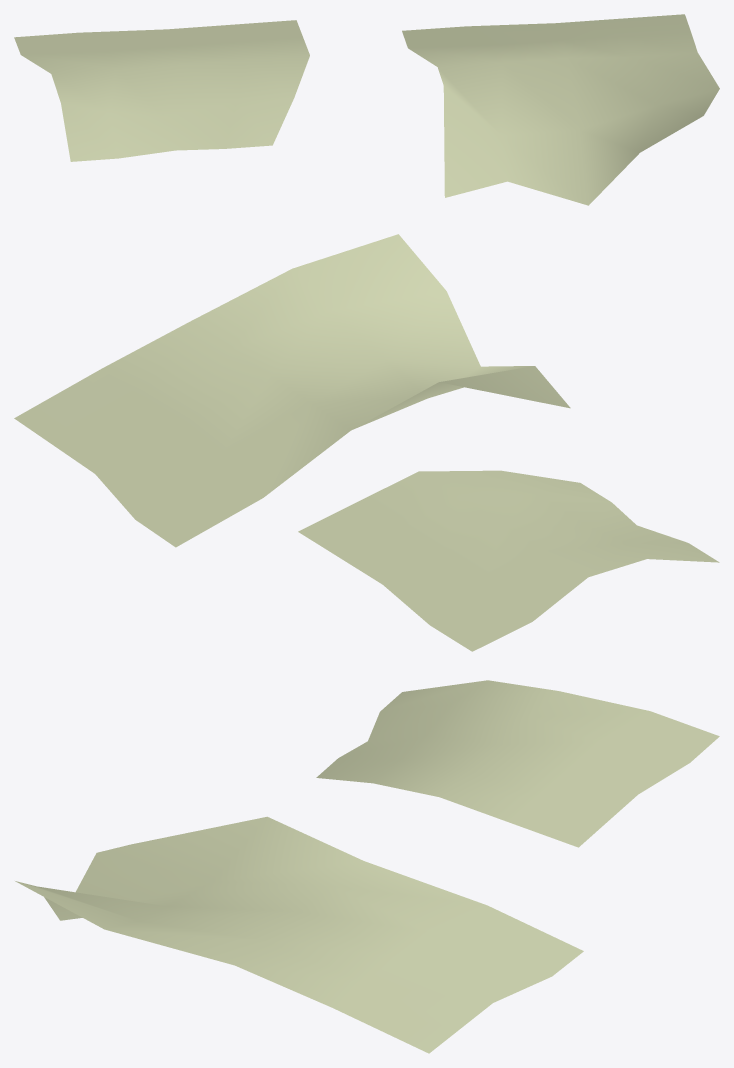
Rendered from NotizZettel.fbx.
The picture shows the model from 3 angles, top to bottom: view 1: azimuth 30°, elevation 25°; view 2: azimuth 150°, elevation 25°; view 3: azimuth 270°, elevation 25°; orthographic projection. The views are drawn at different scales.
Parts seen in each view (by area): view 1: Notiz1, Notiz2; view 2: Notiz1, Notiz2; view 3: Notiz1, Notiz2.
Boxes of the visible parts, x1,y1,x2,y2 form: Notiz1: (402, 14, 719, 205); Notiz2: (14, 20, 309, 161); Notiz1: (14, 234, 570, 547); Notiz2: (298, 470, 719, 651); Notiz1: (15, 816, 583, 1053); Notiz2: (316, 680, 719, 847).
Size of the model in its own units: 1.48 by 0.1966 by 1.28.
